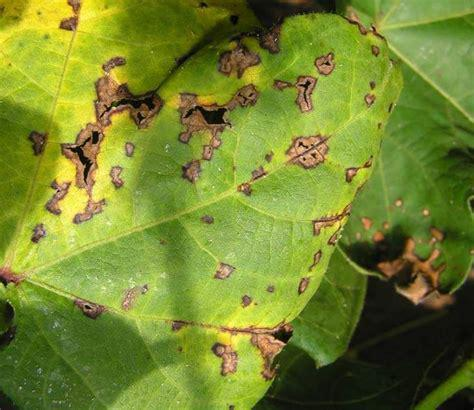BACTERIAL DISEASE: (95, 56, 164, 123), (401, 235, 449, 306), (249, 319, 293, 367), (58, 121, 103, 162), (213, 44, 263, 78), (284, 134, 330, 169), (182, 96, 229, 129), (268, 78, 316, 110), (309, 204, 353, 236), (64, 296, 112, 322), (208, 338, 236, 379), (343, 154, 376, 187), (54, 0, 80, 31), (45, 179, 68, 214), (119, 284, 147, 312), (68, 166, 97, 192), (74, 197, 103, 221), (0, 266, 30, 289), (311, 52, 340, 74), (29, 127, 49, 156), (211, 261, 238, 282), (179, 157, 201, 181), (200, 135, 221, 159), (427, 223, 447, 247), (28, 221, 47, 246), (370, 229, 390, 249), (357, 213, 376, 232), (108, 165, 123, 189), (235, 179, 255, 197), (249, 163, 269, 180), (169, 317, 188, 334), (197, 210, 215, 226), (296, 275, 311, 294), (310, 250, 322, 272), (123, 138, 136, 158), (369, 42, 383, 56), (365, 91, 376, 108), (396, 198, 408, 213), (241, 294, 253, 307)
